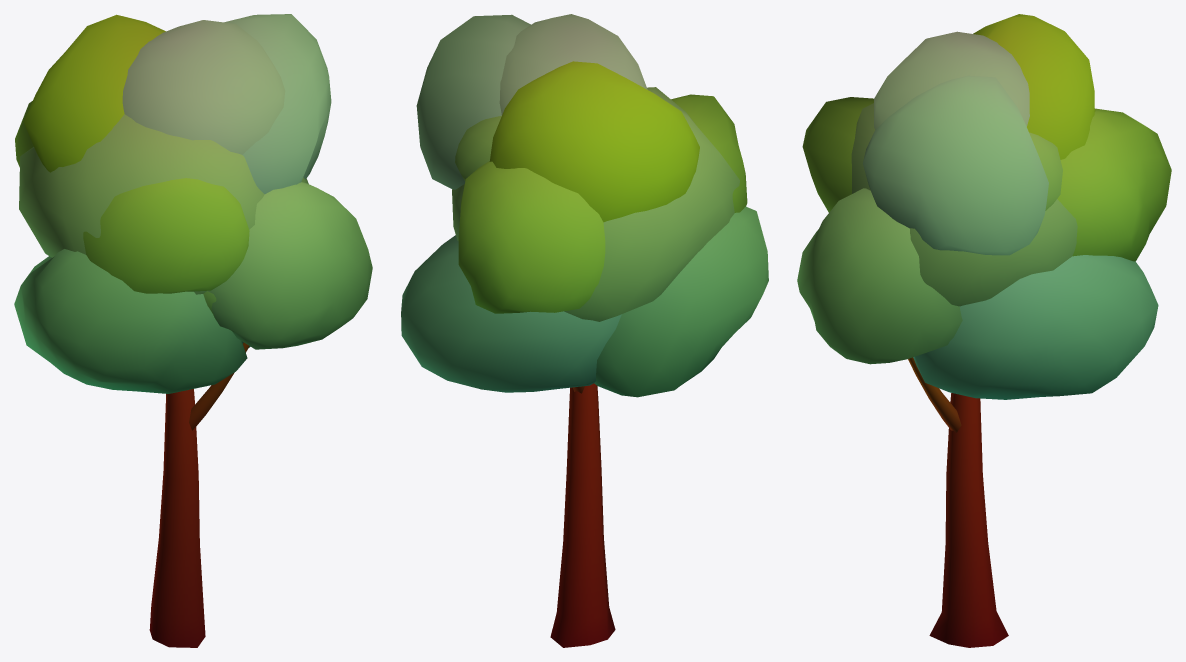
File: broadleaf_b.glb
3 views of the same model, side by side, from view 1: azimuth 30°, elevation 25°; view 2: azimuth 150°, elevation 25°; view 3: azimuth 270°, elevation 25° (orthographic).
Parts seen in each view (by area): view 1: broadleaf_b_LOD0; view 2: broadleaf_b_LOD0; view 3: broadleaf_b_LOD0.
Part boxes in pixels (x1=…): broadleaf_b_LOD0: x1=14, y1=14, x2=372, y2=647; broadleaf_b_LOD0: x1=401, y1=14, x2=768, y2=647; broadleaf_b_LOD0: x1=797, y1=14, x2=1171, y2=647.
Size of what is drawn, in the model's own units: 4.65 by 8.76 by 4.92.
